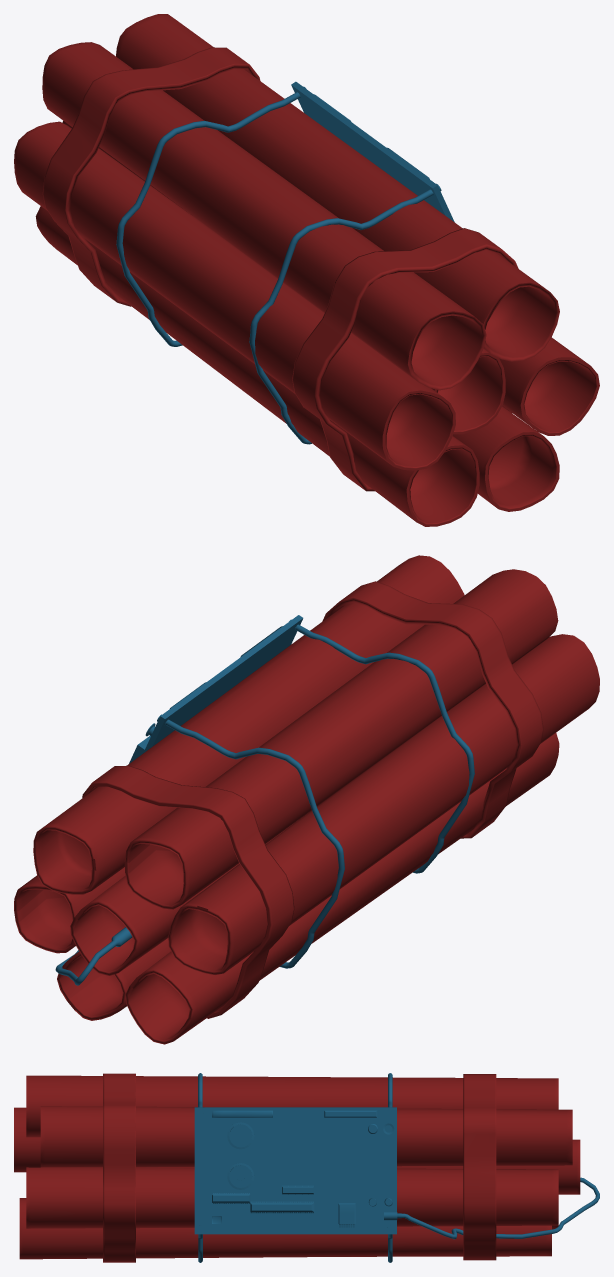
3 renders of one model, top to bottom at view 1: azimuth 30°, elevation 25°; view 2: azimuth 150°, elevation 25°; view 3: azimuth 270°, elevation 25°, orthographic. The views are drawn at different scales.
Parts seen in each view (by area): view 1: g polySurface207, g pCylinder34; view 2: g polySurface207, g pCylinder34; view 3: g polySurface207, g pCylinder34.
Boxes of the visible parts, x1,y1,x2,y2 form: g polySurface207: [14, 14, 599, 526]; g pCylinder34: [116, 81, 454, 444]; g polySurface207: [14, 555, 599, 1044]; g pCylinder34: [55, 615, 474, 985]; g polySurface207: [14, 1073, 580, 1262]; g pCylinder34: [194, 1073, 599, 1262].
Bounding box in the file's own units: 0.6987 × 0.622 × 2.
